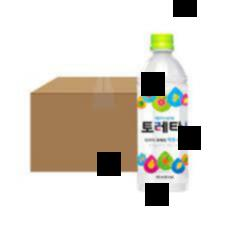toreta: (136, 31, 191, 194)
